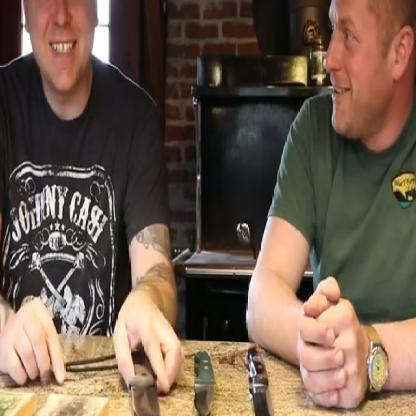knife: (110, 329, 184, 415)
